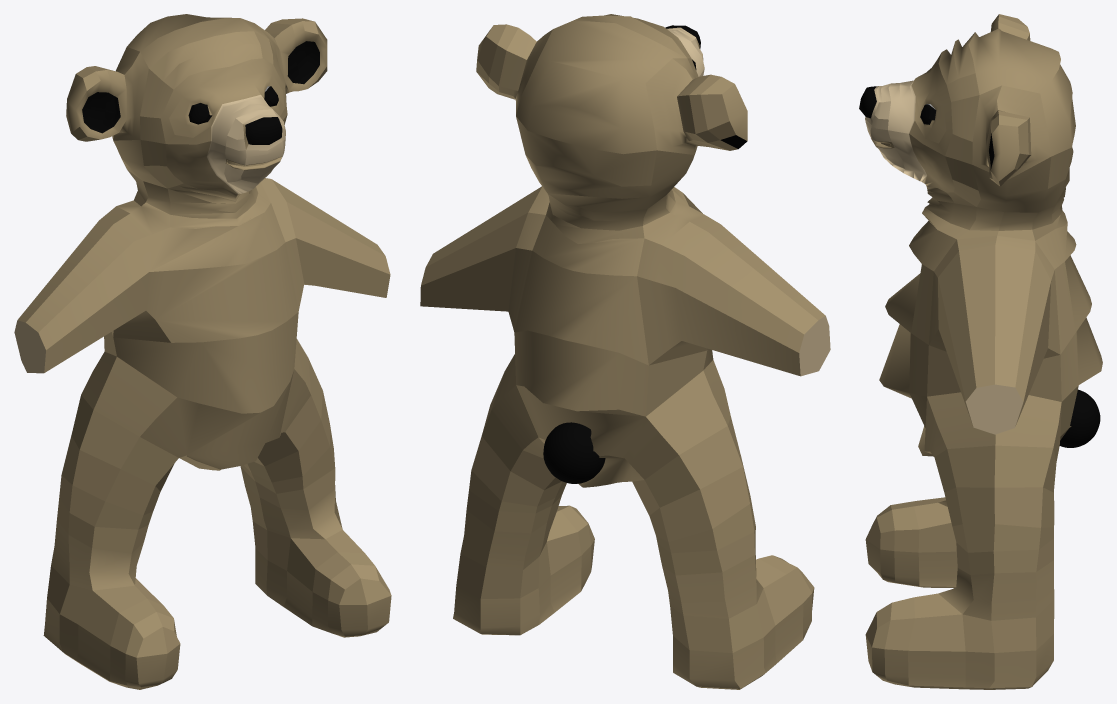
File: bear.fbx
3 views of the same model, side by side, from view 1: azimuth 30°, elevation 25°; view 2: azimuth 150°, elevation 25°; view 3: azimuth 270°, elevation 25° (orthographic). The views are drawn at different scales.
Visible parts, largest first — view 1: pSphere2; view 2: pSphere2; view 3: pSphere2.
Part boxes in pixels (x1,y1,x2,y2): pSphere2: (14, 14, 391, 689); pSphere2: (420, 14, 830, 689); pSphere2: (859, 14, 1102, 689).
Size of the model in its own units: 7.49 by 11.65 by 4.41.
